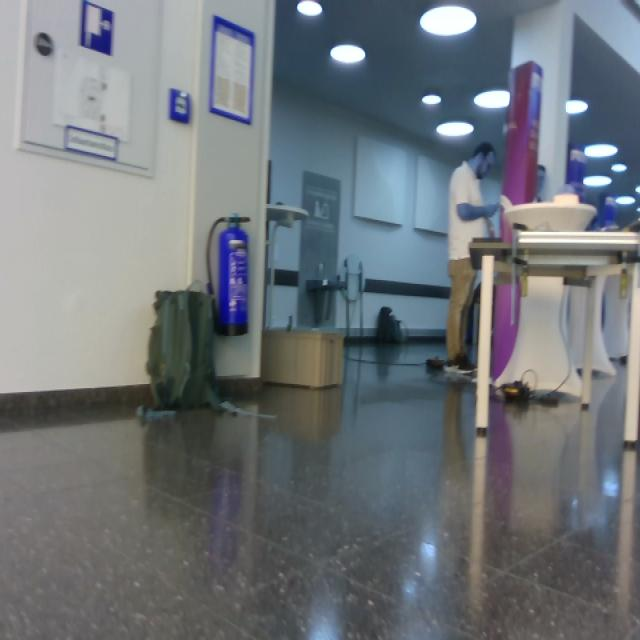door: (1, 1, 275, 396), (191, 1, 275, 381)
fire extinguisher: (207, 213, 251, 337)
light bulb: (420, 5, 477, 37), (330, 44, 366, 65), (474, 89, 511, 109), (436, 121, 474, 137), (584, 144, 618, 158), (565, 98, 589, 116), (297, 1, 323, 17), (583, 176, 612, 188), (422, 93, 442, 106), (616, 196, 636, 205), (611, 162, 627, 173), (635, 184, 640, 194)
person: (444, 141, 502, 374)
tiled floor: (1, 336, 639, 640)
